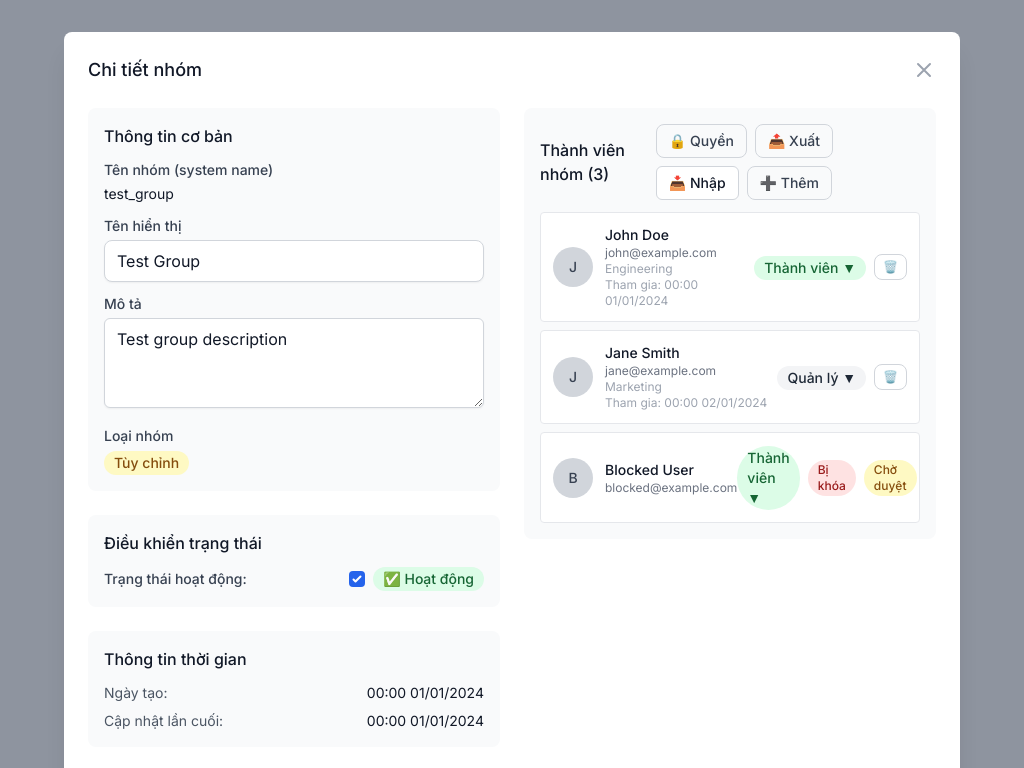
it: GroupDetailModal › Form Editing › should toggle active status
Click the checkbox.
click(357, 579)  # box [349,571,365,587]
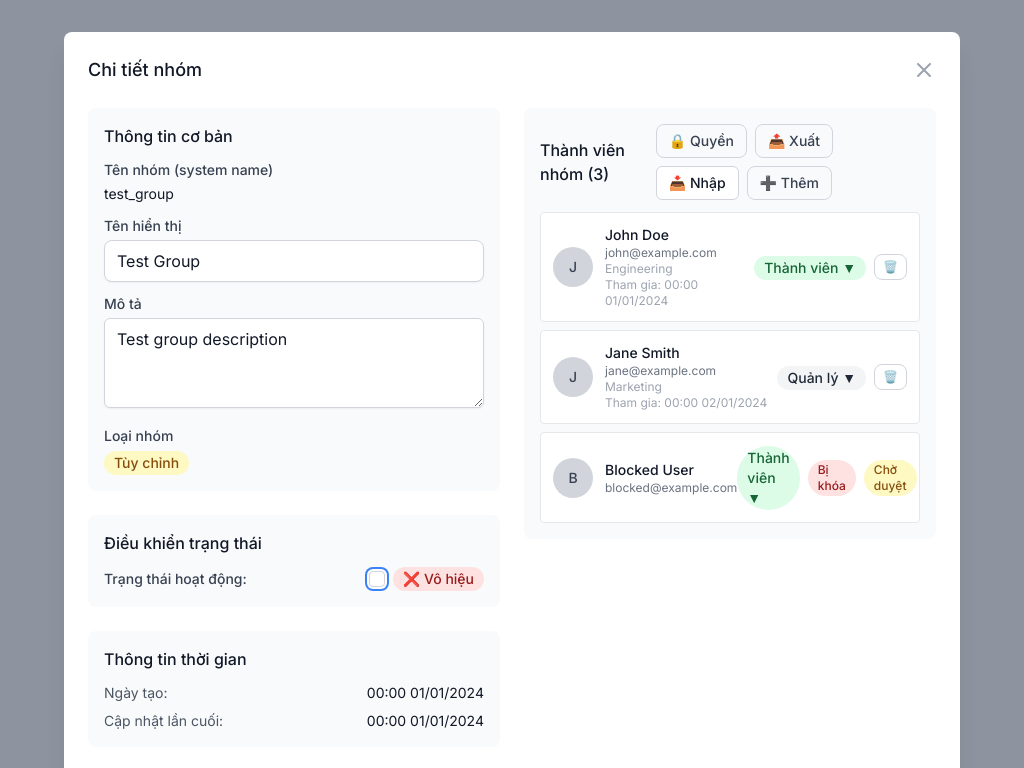
expect the checkbox is not checked: met, box [369,571,385,587]
expect the text "❌ Vô hiệu" is shown: met, box [393,567,484,591]
